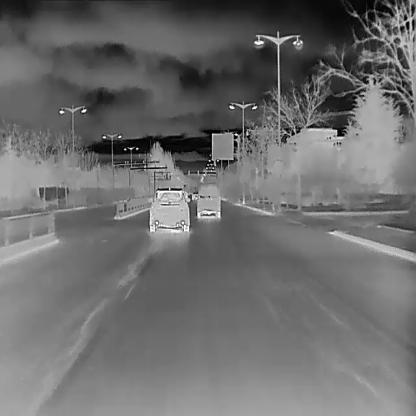car: (148, 186, 190, 232), (195, 180, 221, 218), (190, 191, 200, 200)
